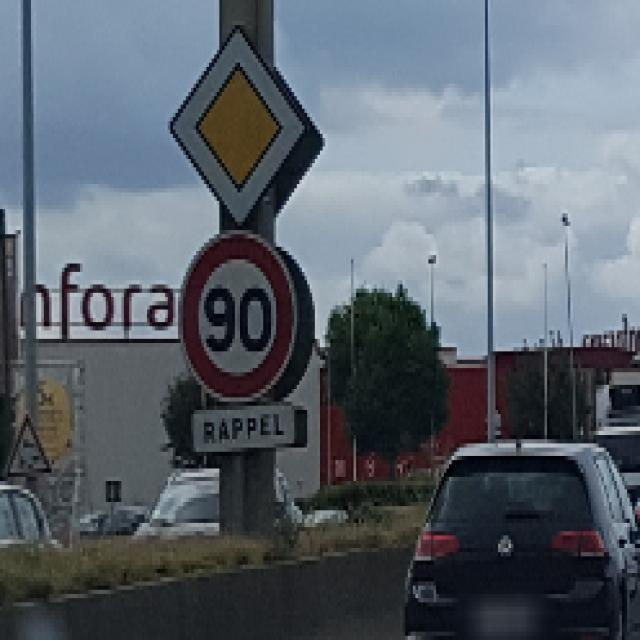speed_90: (177, 225, 301, 408)
